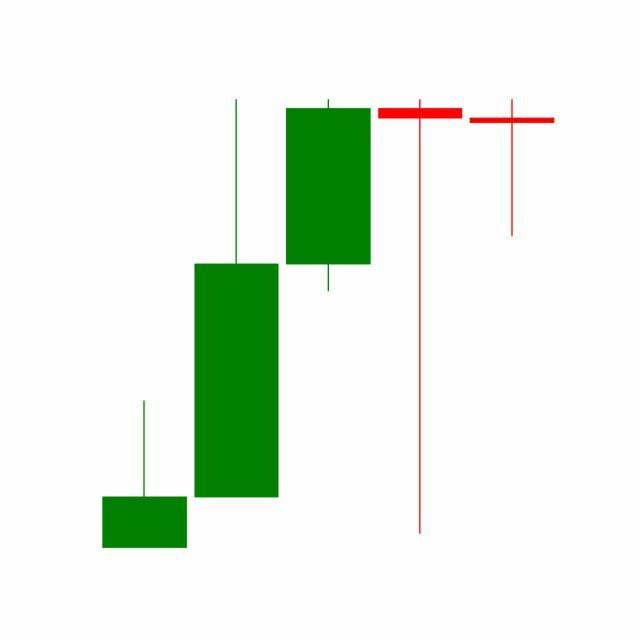Hanging Man: (374, 95, 468, 539)
